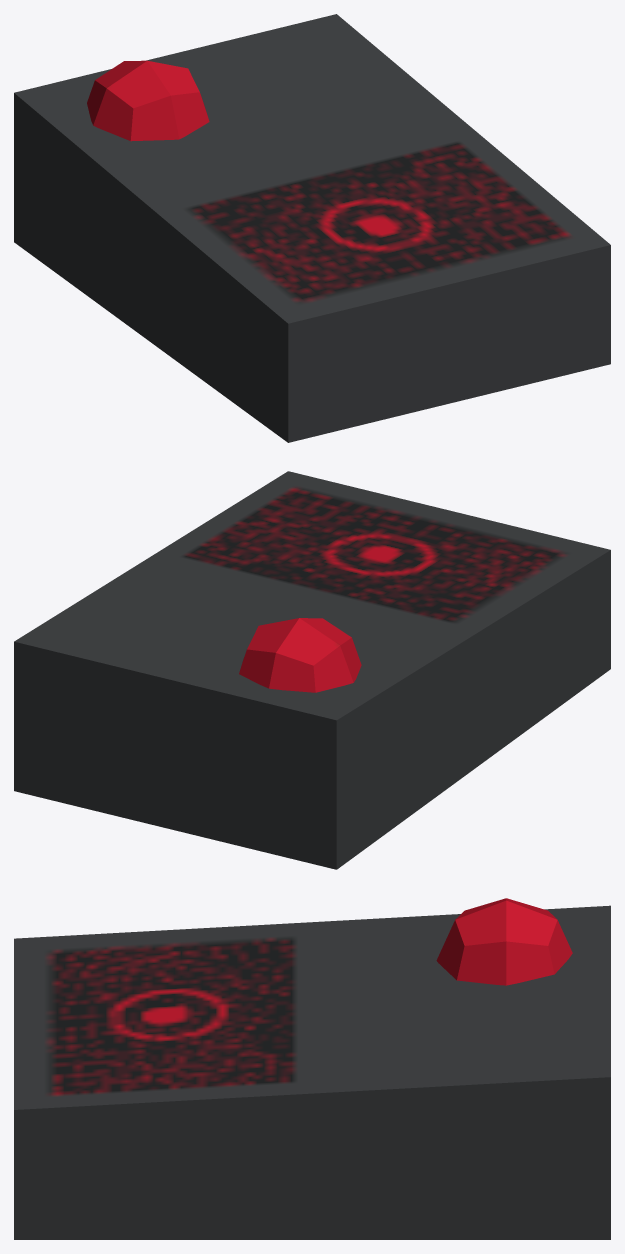
The model's file is detector.fbx.
The picture shows the model from 3 angles, top to bottom: view 1: azimuth 30°, elevation 25°; view 2: azimuth 150°, elevation 25°; view 3: azimuth 270°, elevation 25°; orthographic projection. The views are drawn at different scales.
Parts seen in each view (by area): view 1: detector, Quadsphere; view 2: detector, Quadsphere; view 3: detector, Quadsphere.
Boxes of the visible parts, x1,y1,x2,y2 form: detector: [14, 14, 610, 442]; Quadsphere: [87, 60, 209, 141]; detector: [14, 471, 610, 869]; Quadsphere: [239, 618, 361, 692]; detector: [14, 905, 610, 1239]; Quadsphere: [436, 898, 572, 985].
Size of the model in its own units: 88.72 by 51.45 by 131.
